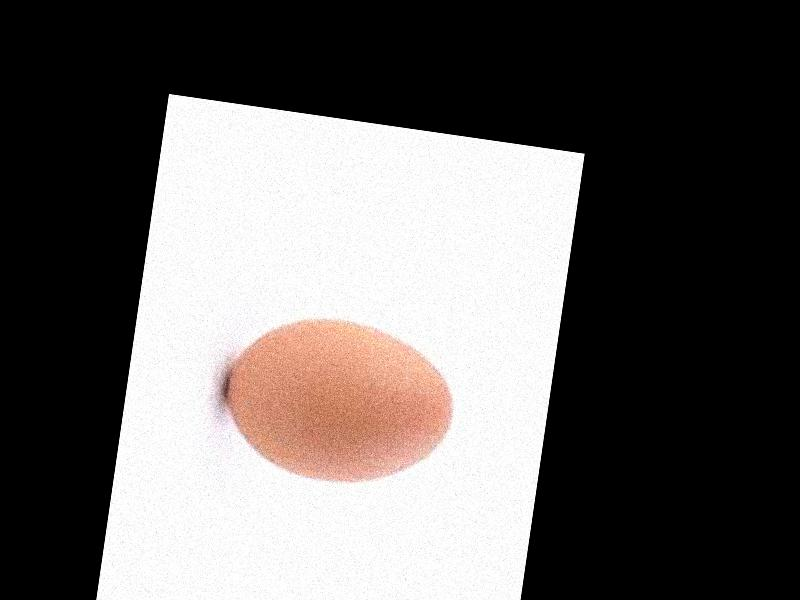Eggs: (216, 306, 462, 499)
